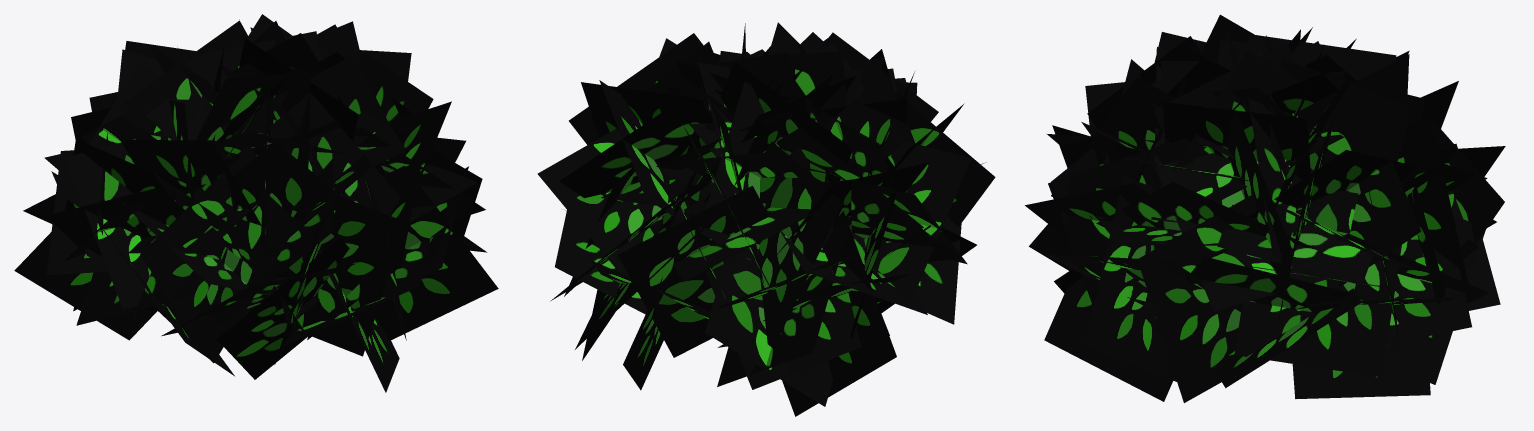
Rendered from BushLP.fbx.
The picture shows the model from 3 angles, left to right: view 1: azimuth 30°, elevation 25°; view 2: azimuth 150°, elevation 25°; view 3: azimuth 270°, elevation 25°; orthographic projection. The views are drawn at different scales.
Parts seen in each view (by area): view 1: bush; view 2: bush; view 3: bush.
Part boxes in pixels (x1,y1,x2,y2): bush: (14,14,498,392); bush: (537,22,995,416); bush: (1025,14,1505,402).
Bounding box in the file's own units: 784 × 620 × 818.
